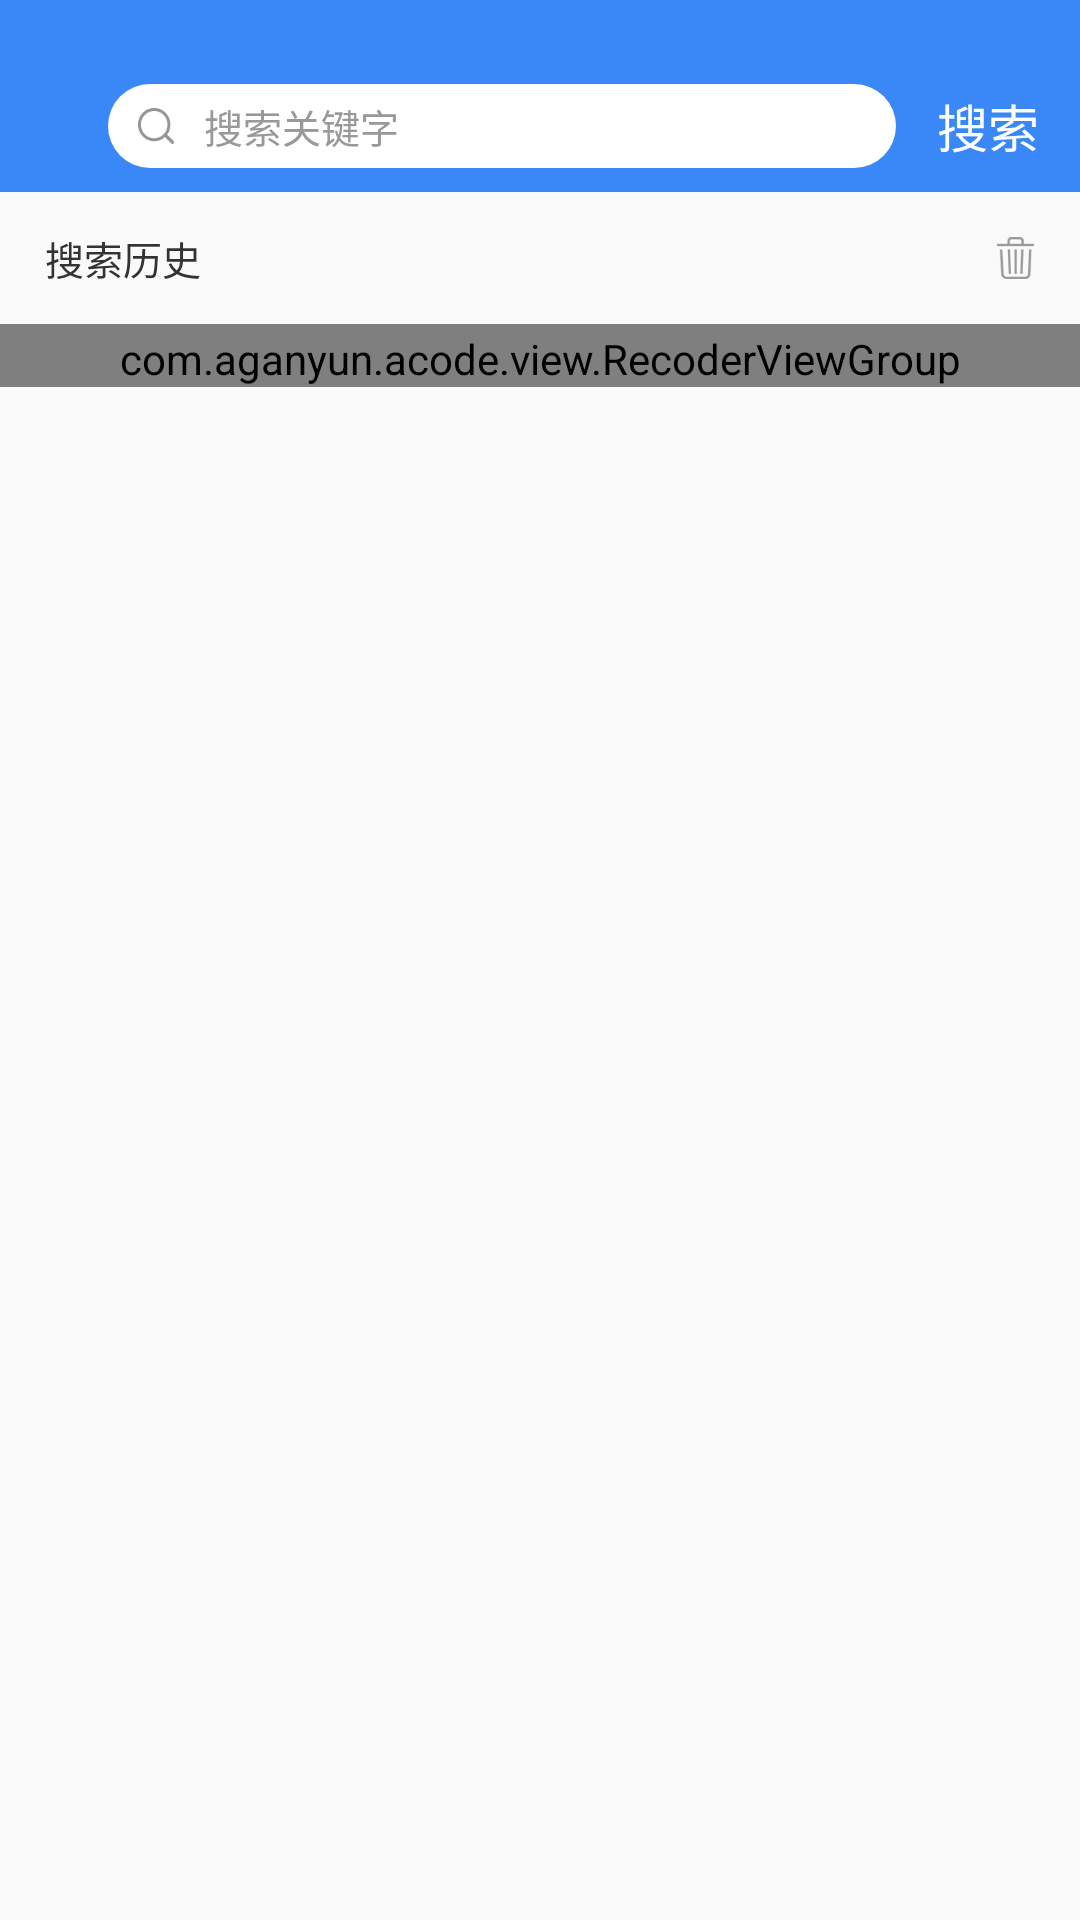

Named icons in this screenshot (1080 × 1920) and their centers, [x,y]:
delect search history: [1015,258]
